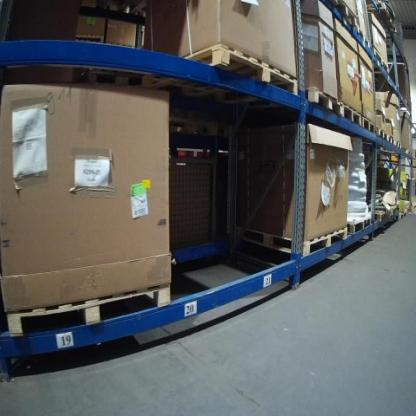pallet: (143, 42, 301, 107), (9, 282, 174, 339), (232, 223, 348, 258), (305, 83, 342, 118), (331, 0, 357, 30), (340, 103, 362, 128), (347, 215, 371, 235), (373, 47, 390, 75), (356, 24, 370, 49), (362, 114, 376, 136), (377, 126, 389, 142), (390, 204, 399, 217), (388, 135, 395, 145), (395, 139, 402, 149)
stillage: (166, 143, 228, 257)
